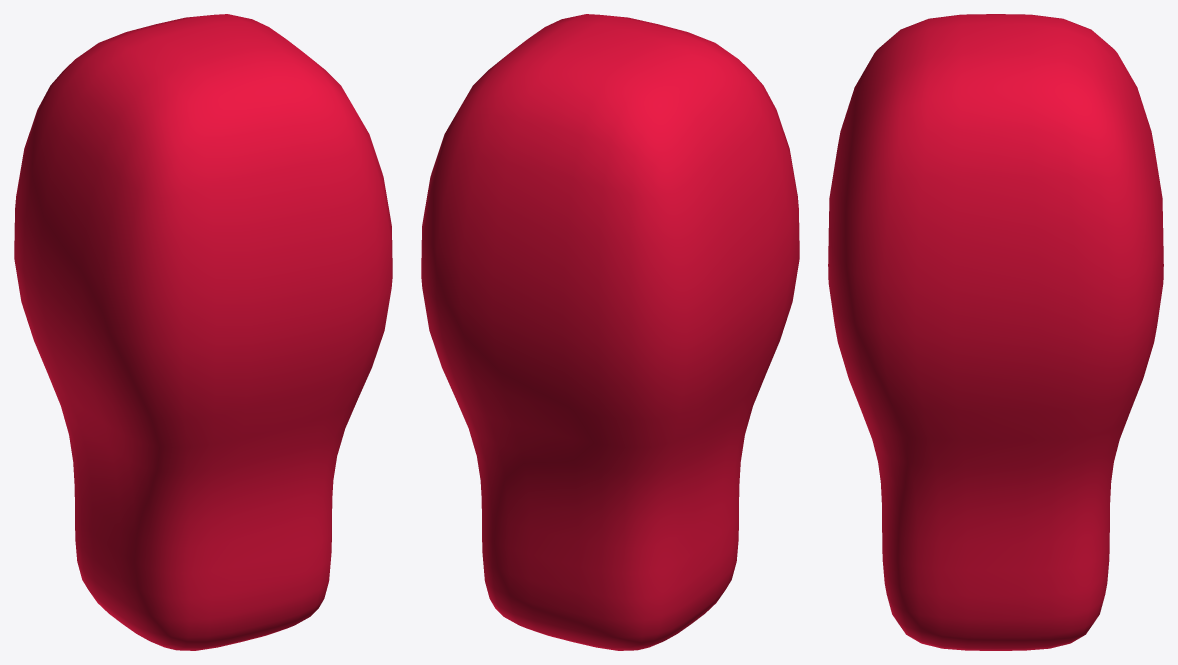
The model's file is blob.fbx.
3 renders of one model, left to right at view 1: azimuth 30°, elevation 25°; view 2: azimuth 150°, elevation 25°; view 3: azimuth 270°, elevation 25°, orthographic.
Visible parts, largest first — view 1: Cube; view 2: Cube; view 3: Cube.
Boxes of the visible parts, x1,y1,x2,y2 form: Cube: [14, 14, 392, 650]; Cube: [421, 14, 799, 650]; Cube: [828, 14, 1163, 650].
Size of the model in its own units: 295 by 569 by 295.
